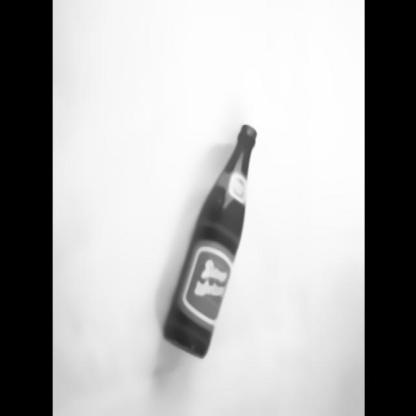Can: (162, 125, 258, 359)
